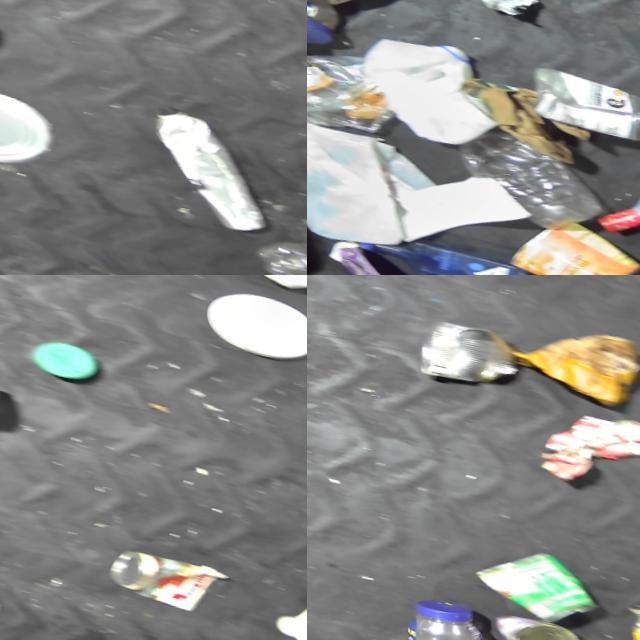can: (466, 534, 606, 629), (415, 314, 523, 391), (0, 76, 56, 170), (486, 606, 587, 640), (265, 580, 307, 640), (473, 0, 545, 19)
milk_jug: (351, 27, 509, 153), (307, 111, 441, 258)
plastic_bottle: (448, 123, 614, 237), (391, 590, 495, 640), (249, 206, 307, 275)
